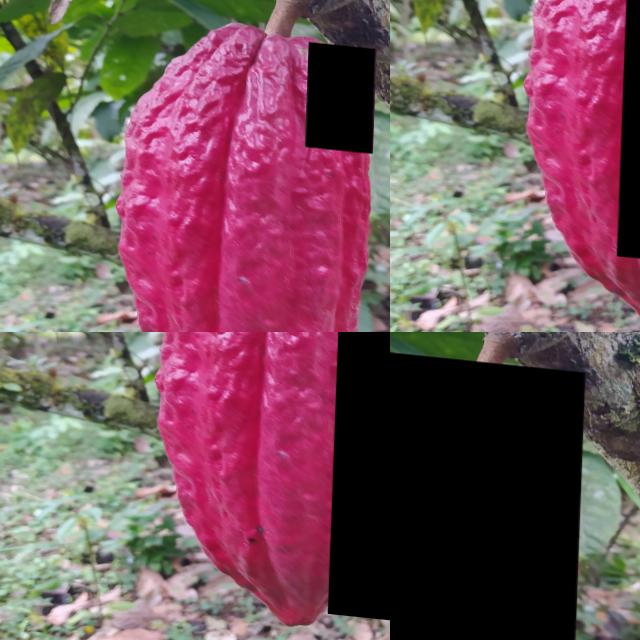Sana: (390, 342, 586, 640), (517, 57, 640, 332), (332, 332, 390, 621), (307, 34, 378, 144)
